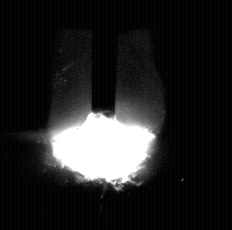arame: (91, 0, 116, 118)
poca: (48, 0, 156, 230)
